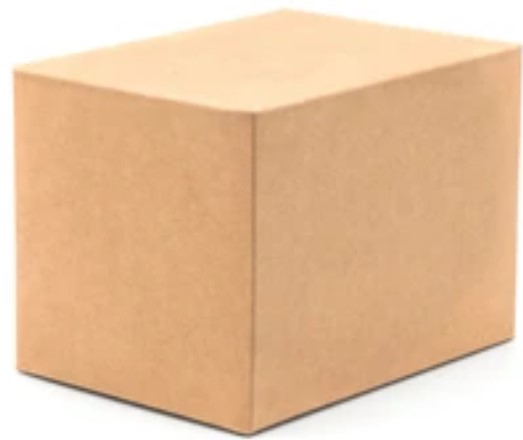stock: (14, 9, 521, 435)
